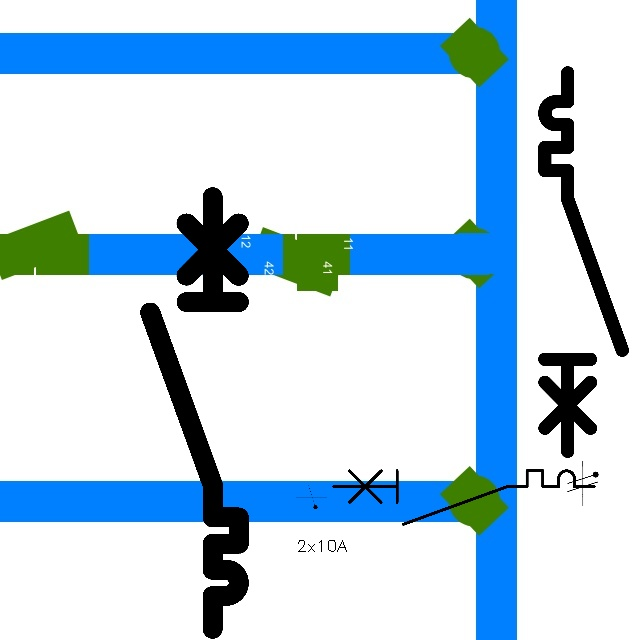interruptor_termomagnetico: (139, 186, 250, 640), (535, 63, 632, 461), (326, 464, 600, 531)
